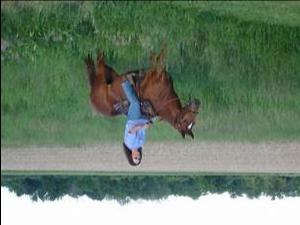horse: (84, 42, 200, 140)
